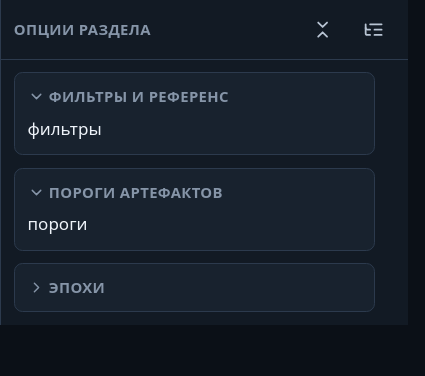
Test case: правый сайдбар: меню быстрого перемещения › выбор секции раскрывает её и прокручивает к ней панель
The width and height of the screenshot is (425, 376).
What coordinates should you click on to do the following:
click the button named "Меню быстрого перемещения по секциям"
I would click on:
 (374, 29)
Its box is [353,8,395,50].
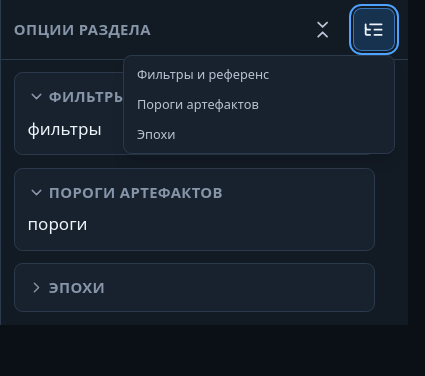
What coordinates should you click on to do the following:
click the menu item "Эпохи"
I would click on:
 (156, 134)
Its box is [128,120,390,149].
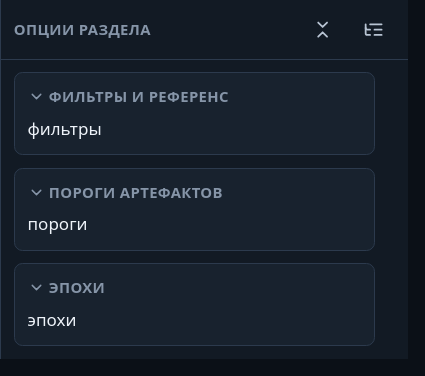
Result: the button "Эпохи" is expanded at [28,277,353,298]
Result: the menu is gone
